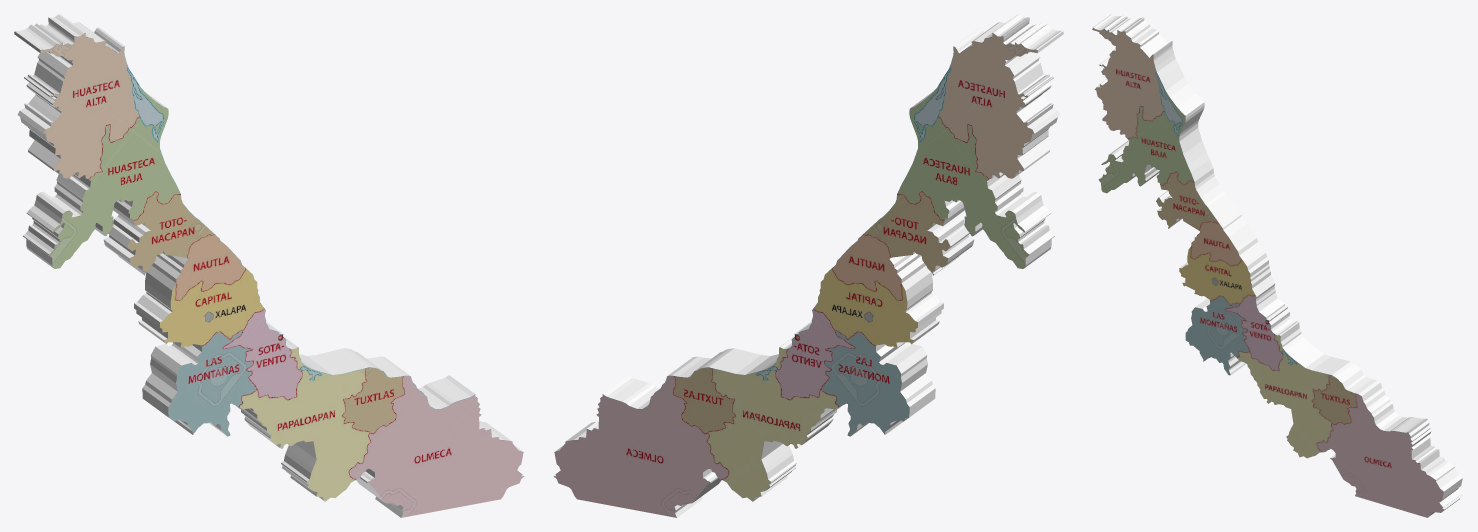
File: veracruz.glb
3 renders of one model, left to right at view 1: azimuth 30°, elevation 25°; view 2: azimuth 150°, elevation 25°; view 3: azimuth 330°, elevation 25°, orthographic. The views are drawn at different scales.
Visible parts, largest first — view 1: Plano; view 2: Plano; view 3: Plano.
Part boxes in pixels (bbox=[...]): Plano: bbox=[14, 14, 524, 517]; Plano: bbox=[553, 14, 1063, 517]; Plano: bbox=[1092, 14, 1463, 517].
Bounding box in the file's own units: 0.8068 × 0.9035 × 0.0748.
1 material, 1 textured.
